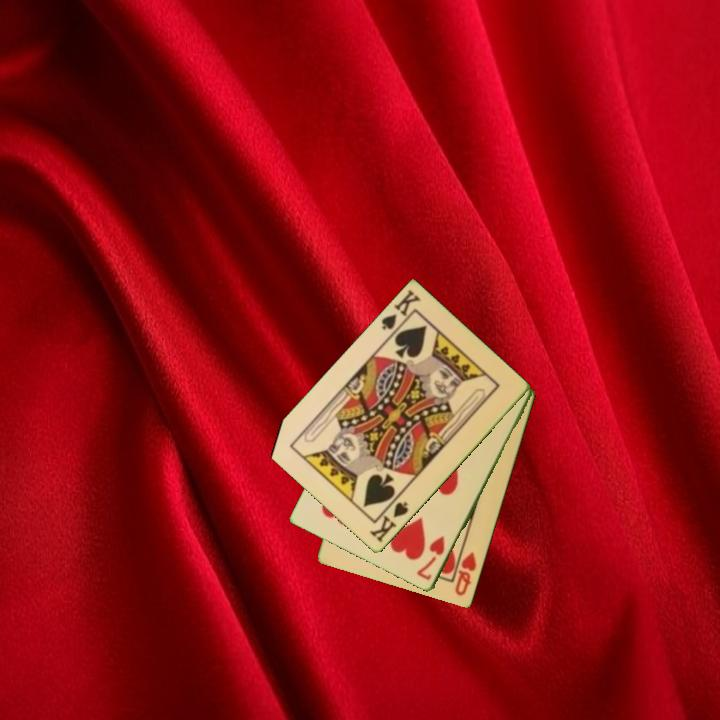7h: (413, 532, 448, 583)
Ks: (378, 287, 424, 340), (366, 498, 412, 546)
Qh: (452, 549, 480, 599)
